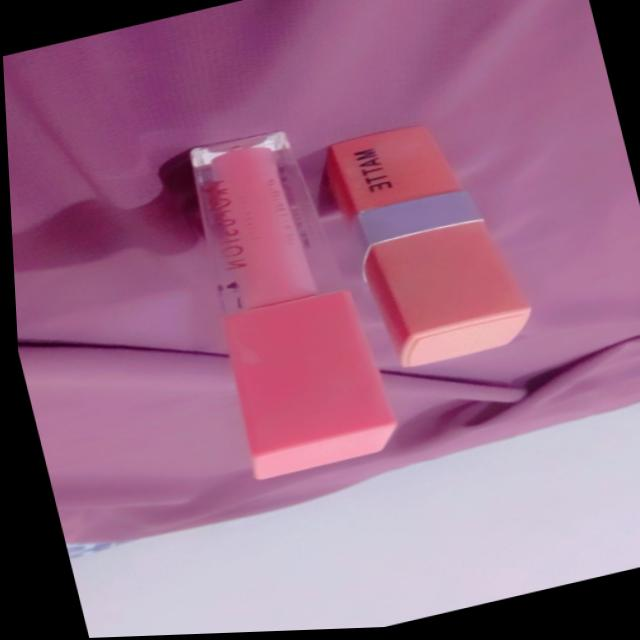lip gloss: (121, 107, 419, 509), (306, 96, 561, 404)
